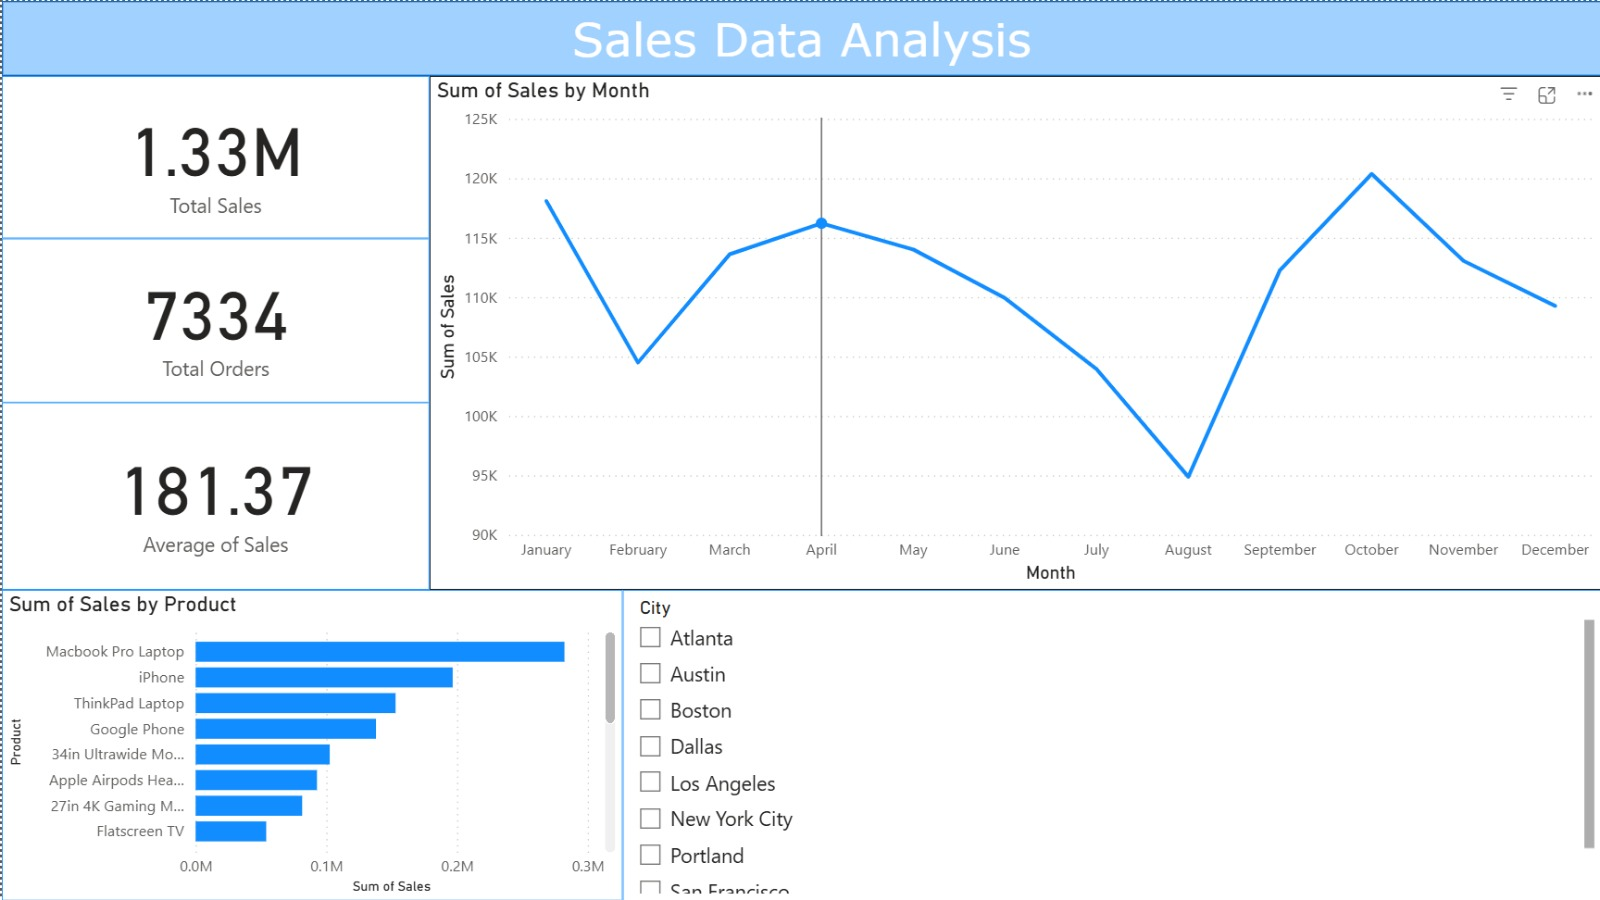

This screenshot's page, from the dashboard's own definition file:
{"tool":"powerbi","page":{"name":"Page 1","canvas":[1280,720],"ordinal":0},"visuals":[{"type":"lineChart","fields":{"Y":["Sum(Sales_April_2019.Sales)"],"Category":["Sales_April_2019.Order Date.Variation.Date Hierarchy.Month"]},"box":[342.2,60,937.8,411.1],"z":0},{"type":"shape","box":[0,0,1280,60],"z":1},{"type":"card","fields":{"Values":["Sum(Sales_April_2019.Sales)"]},"box":[0,60,342.2,130],"z":2},{"type":"card","fields":{"Values":["CountNonNull(Sales_April_2019.Order ID)"]},"box":[0,190,342.2,131.1],"z":3},{"type":"card","fields":{"Values":["Avg(Sales_April_2019.Sales)"]},"box":[0,321.1,342.2,150],"z":4},{"type":"barChart","fields":{"Category":["Sales_April_2019.Product"],"Y":["Sum(Sales_April_2019.Sales)"]},"box":[0,471.1,496.7,248.9],"z":5},{"type":"slicer","fields":{"Values":["Sales_April_2019.City"]},"box":[497,471,783,249],"z":6}]}

Visuals, with their boxes in screenshot pixels (x1, y1, x2, y2), scaled from the page's 1280x720 canvas onto the 1600x900 screenshot:
lineChart - Sum(Sales_April_2019.Sales) x Sales_April_2019.Order Date.Variation.Date Hierarchy.Month: <bbox>428, 75, 1599, 589</bbox>
shape: <bbox>0, 0, 1599, 75</bbox>
card - Sum(Sales_April_2019.Sales): <bbox>0, 75, 428, 238</bbox>
card - CountNonNull(Sales_April_2019.Order ID): <bbox>0, 238, 428, 401</bbox>
card - Avg(Sales_April_2019.Sales): <bbox>0, 401, 428, 589</bbox>
barChart - Sales_April_2019.Product x Sum(Sales_April_2019.Sales): <bbox>0, 589, 621, 899</bbox>
slicer - Sales_April_2019.City: <bbox>621, 589, 1599, 899</bbox>
